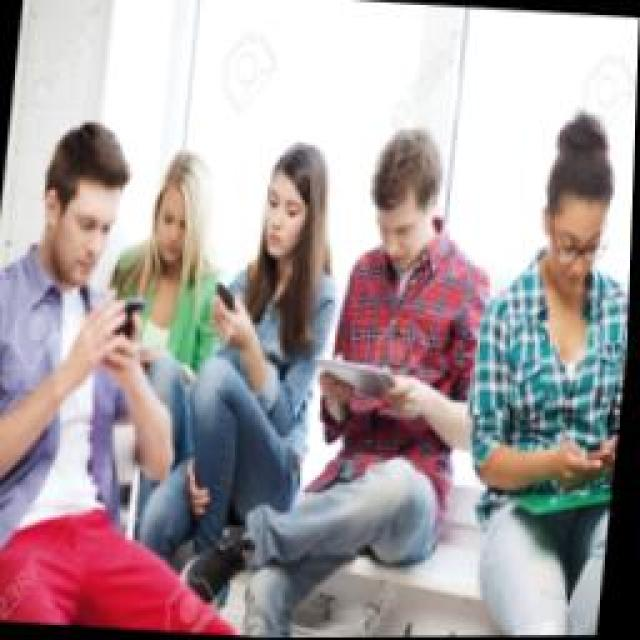phone: (0, 118, 208, 492), (308, 123, 512, 465), (460, 108, 638, 498), (195, 135, 350, 433), (105, 145, 230, 377)
